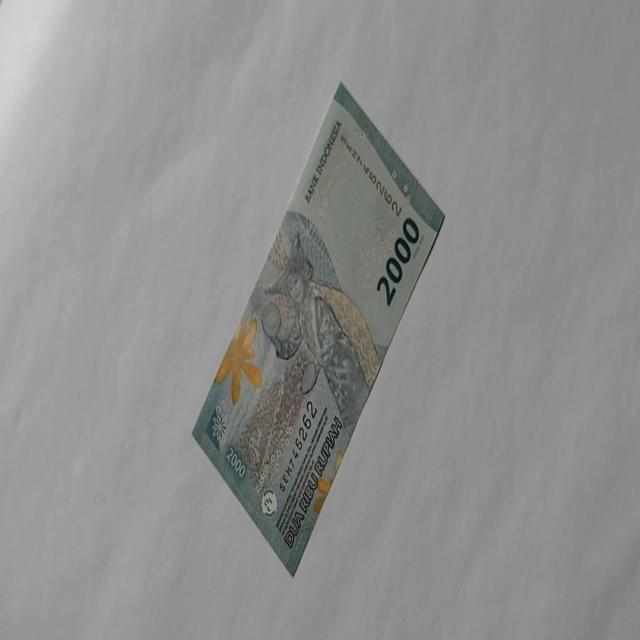dua ribu rupiah: (191, 79, 445, 577), (260, 230, 377, 434)
